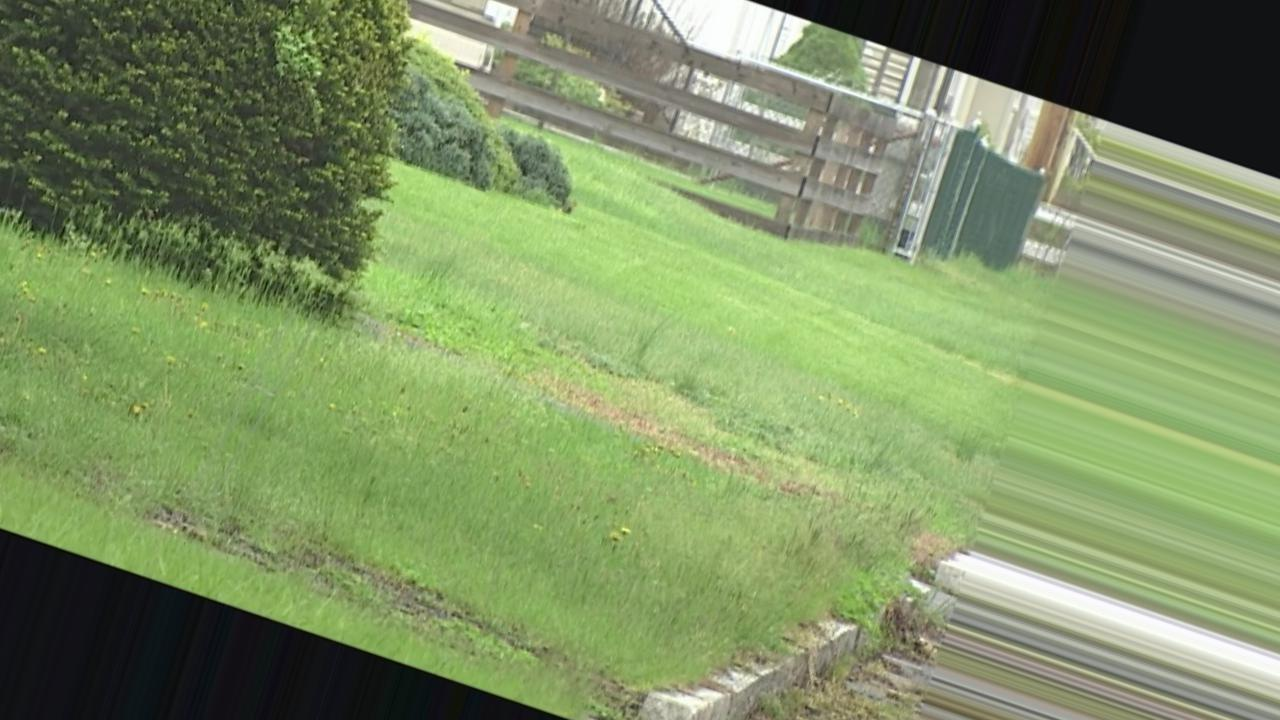patch: (499, 352, 701, 450)
